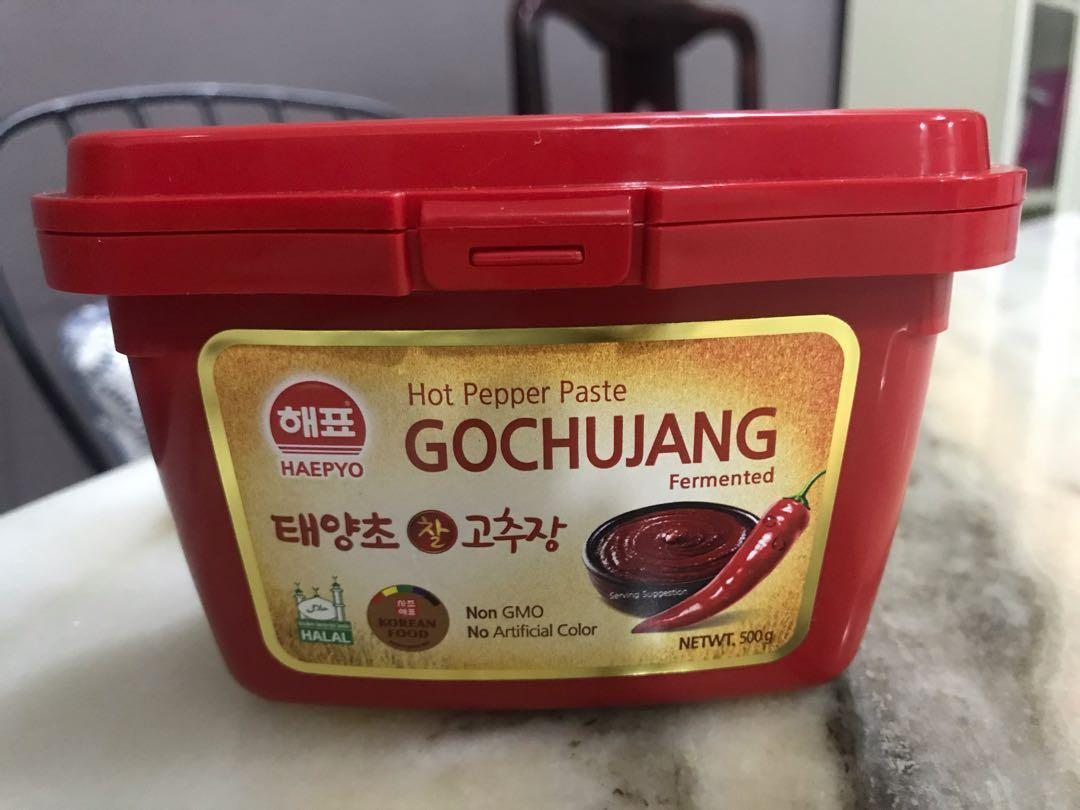plastic: (34, 110, 1023, 708)
